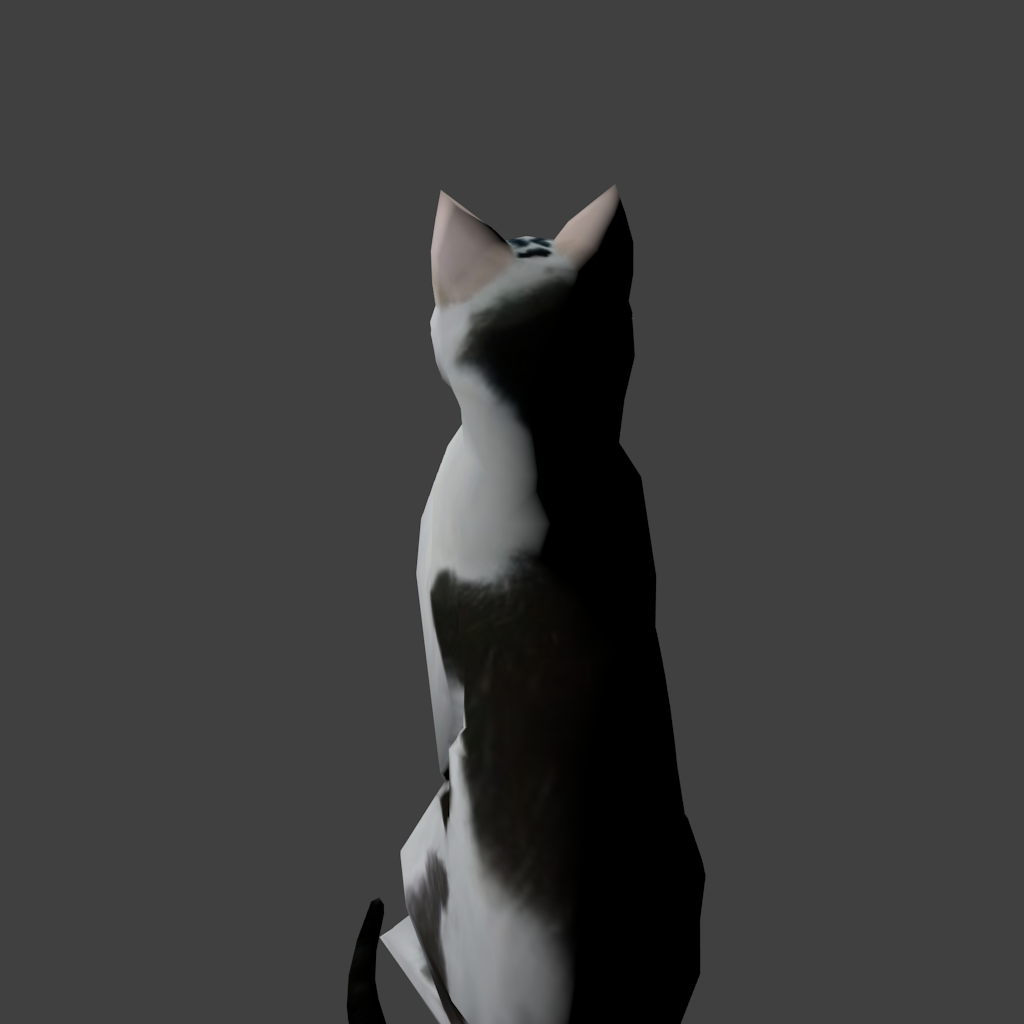Cat: (347, 184, 359, 840)
